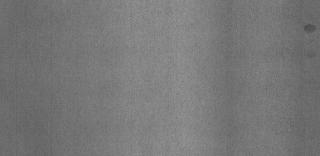oil spot: (302, 22, 318, 34)
